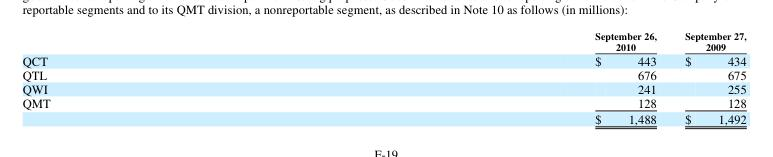table: (21, 28, 745, 126)
table column: (322, 28, 670, 126), (21, 28, 322, 126), (670, 28, 745, 126)
table column header: (21, 28, 745, 52)
table row: (21, 28, 745, 52), (21, 109, 745, 126), (21, 94, 745, 109), (21, 52, 745, 66), (21, 66, 745, 80), (21, 80, 745, 94)
